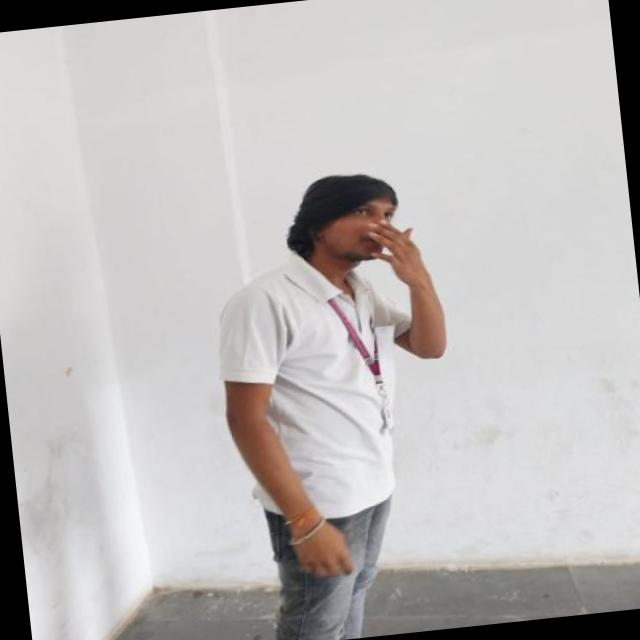id_card: (326, 270, 398, 434)
